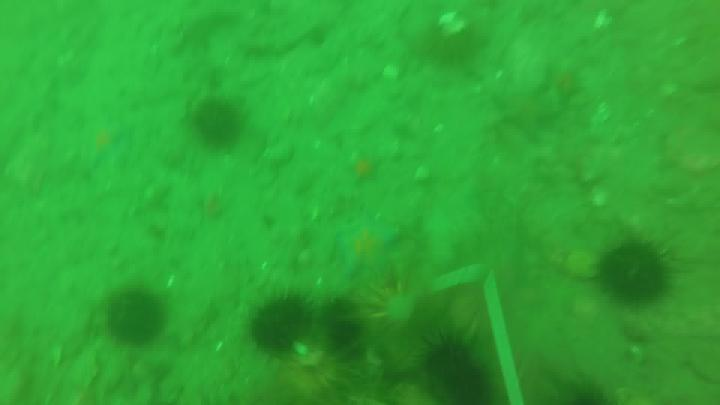echinus: (418, 334, 497, 405), (599, 238, 674, 304), (251, 294, 318, 350), (108, 287, 163, 348), (189, 102, 244, 152), (323, 293, 364, 352)
scallop: (439, 14, 469, 37), (594, 12, 617, 30)
starfish: (345, 208, 402, 293)
